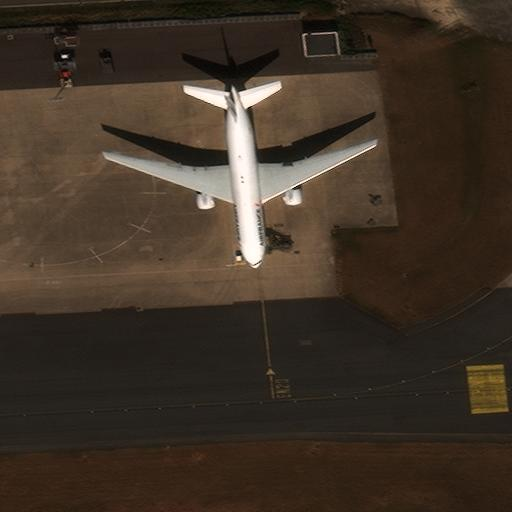Large Civil Transport: (104, 85, 377, 267)
